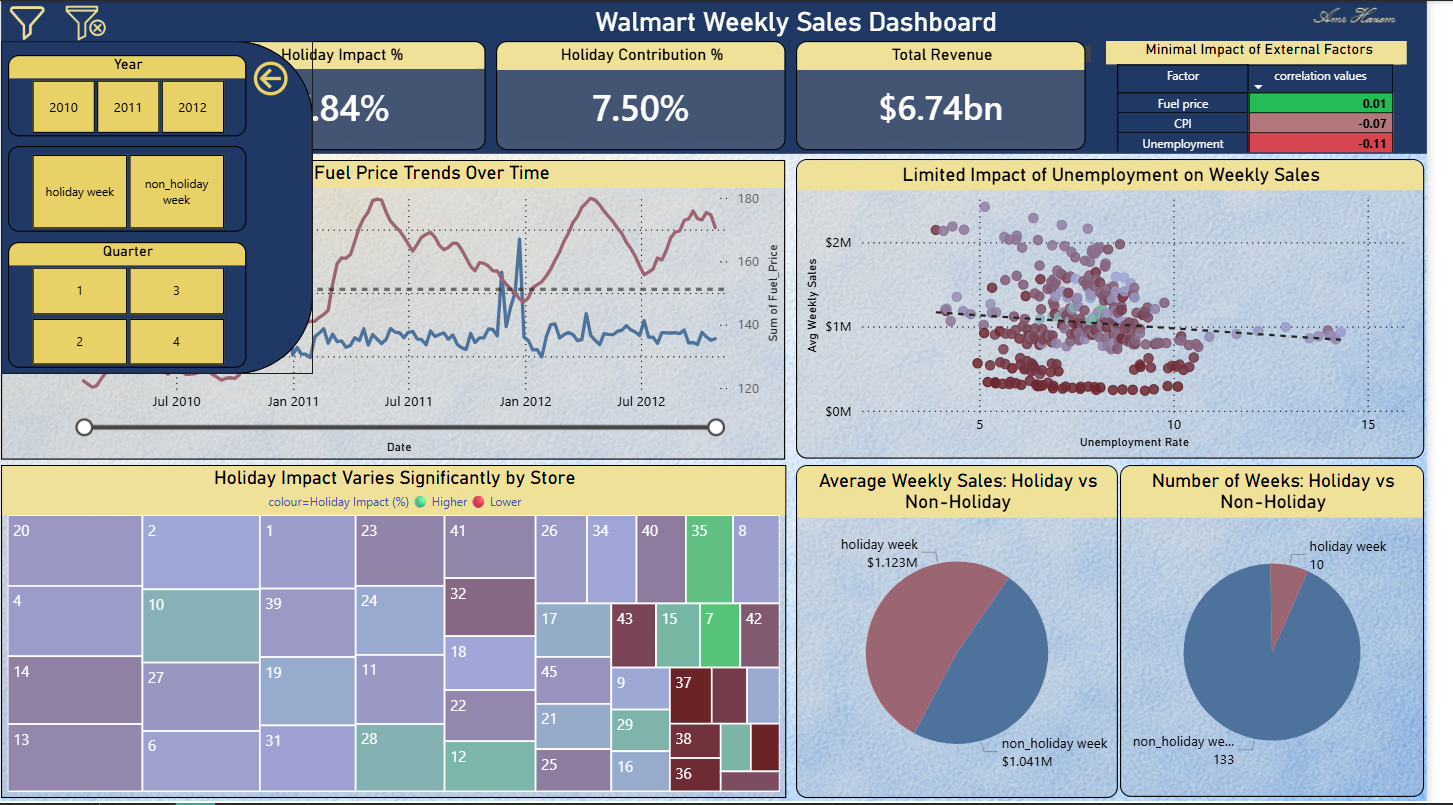

The dashboard page shown, as its layout file describes it:
{"tool":"powerbi","page":{"name":"Page 1","canvas":[1280,720],"ordinal":0},"visuals":[{"type":"group","id":"g1","title":"Group 1","box":[0,417,705,299],"z":0},{"type":"treemap","title":"Holiday Impact Varies Significantly by Store","fields":{"Values":["metrics.Total Sales"],"Group":["Walmart.Store"]},"box":[0,417,705,299],"z":0,"group":"g1"},{"type":"textbox","title":"Walmart Weekly Sales Dashboard","box":[444.4,0,538.7,60.1],"z":1000},{"type":"cardVisual","title":"Holiday Impact %","fields":{"Data":["metrics.Holiday Impact %"]},"box":[175.1,35.9,260.3,98],"z":2000},{"type":"pieChart","title":"Average Weekly Sales: Holiday vs Non-Holiday","fields":{"Category":["Walmart.holiday"],"Y":["metrics.AVG Weekly Sales"]},"box":[714,417,289,299],"z":3000},{"type":"pieChart","title":"Number of Weeks: Holiday vs Non-Holiday","fields":{"Category":["Walmart.holiday"],"Y":["metrics.Count of weeks"]},"box":[1005,417,273,298],"z":4000},{"type":"cardVisual","title":"Total Revenue","fields":{"Data":["metrics.Total Sales"]},"box":[713.7,35.9,260.3,98],"z":5000},{"type":"cardVisual","title":"Holiday Contribution %","fields":{"Data":["metrics.Holiday contribution %"]},"box":[444.2,35.9,260.1,98],"z":6000},{"type":"lineChart","title":"Sales vs Fuel Price Trends Over Time","fields":{"Category":["Walmart.Date","date.quarter"],"Y":["metrics.Total Sales"],"Y2":["Sum(Walmart.Fuel_Price)"]},"box":[0,142.3,704.3,268.7],"z":7000},{"type":"scatterChart","title":"Limited Impact of Unemployment on Weekly Sales","fields":{"X":["Walmart.Unemployment"],"Y":["metrics.AVG Weekly Sales"]},"box":[714,142,564,269],"z":8000},{"type":"pivotTable","title":"Minimal Impact of External Factors","fields":{"Rows":["correlation table.Factor"],"Values":["metrics.correlation values"]},"box":[992,35.9,270.2,106.8],"z":9000},{"type":"image","box":[52.1,1.8,47.6,35.9],"z":12000},{"type":"image","box":[0,0,47,37.7],"z":13000}]}

Visuals, with their boxes in screenshot pixels (x1, y1, x2, y2), scaled from the page's 1280x720 canvas onto the 1453x805 screenshot:
"Group 1" group: box(0, 466, 800, 801)
"Holiday Impact Varies Significantly by Store" treemap: box(0, 466, 800, 801)
"Walmart Weekly Sales Dashboard" textbox: box(504, 0, 1116, 67)
"Holiday Impact %" cardVisual: box(199, 40, 494, 150)
"Average Weekly Sales: Holiday vs Non-Holiday" pieChart: box(811, 466, 1139, 801)
"Number of Weeks: Holiday vs Non-Holiday" pieChart: box(1141, 466, 1451, 799)
"Total Revenue" cardVisual: box(810, 40, 1106, 150)
"Holiday Contribution %" cardVisual: box(504, 40, 799, 150)
"Sales vs Fuel Price Trends Over Time" lineChart: box(0, 159, 799, 460)
"Limited Impact of Unemployment on Weekly Sales" scatterChart: box(811, 159, 1451, 460)
"Minimal Impact of External Factors" pivotTable: box(1126, 40, 1433, 160)
image: box(59, 2, 113, 42)
image: box(0, 0, 53, 42)
